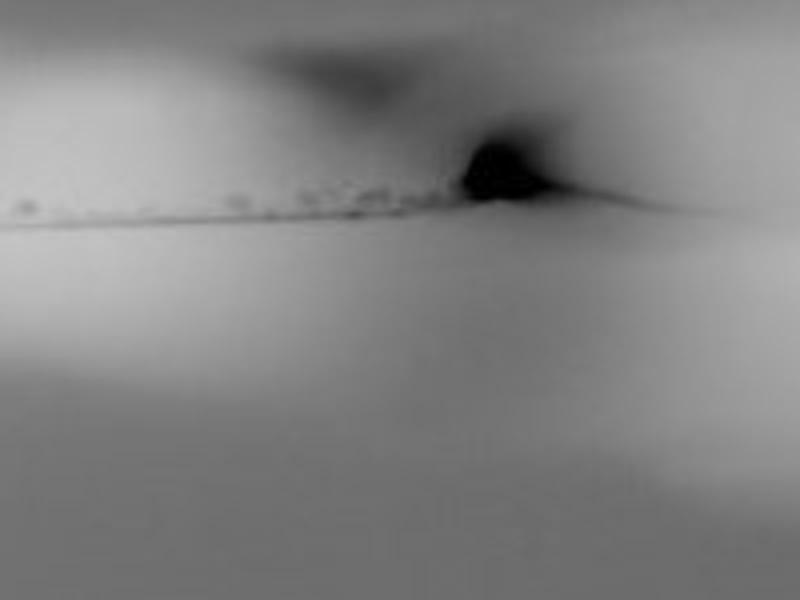defect: (464, 141, 554, 203)
